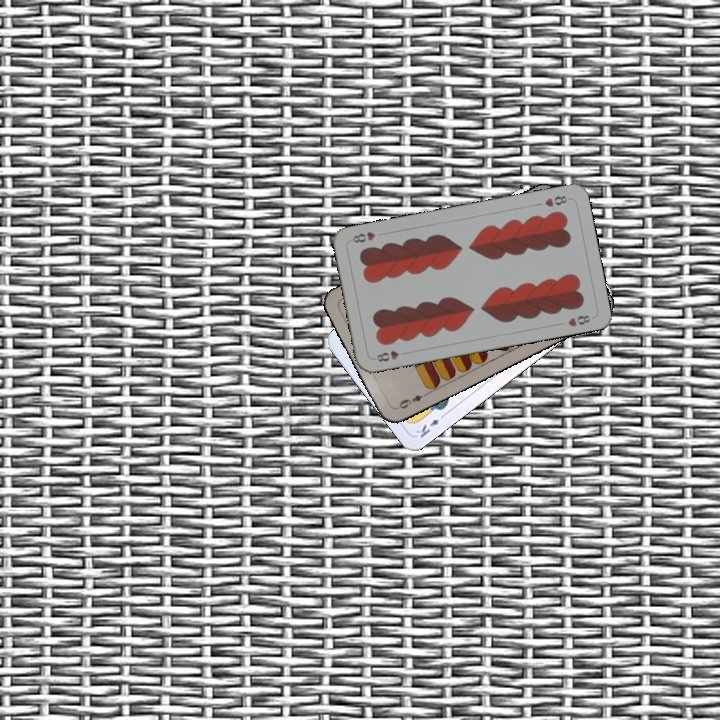E9: (392, 389, 430, 412)
EK: (412, 409, 449, 440)
H8: (372, 347, 410, 364), (541, 192, 573, 210)
